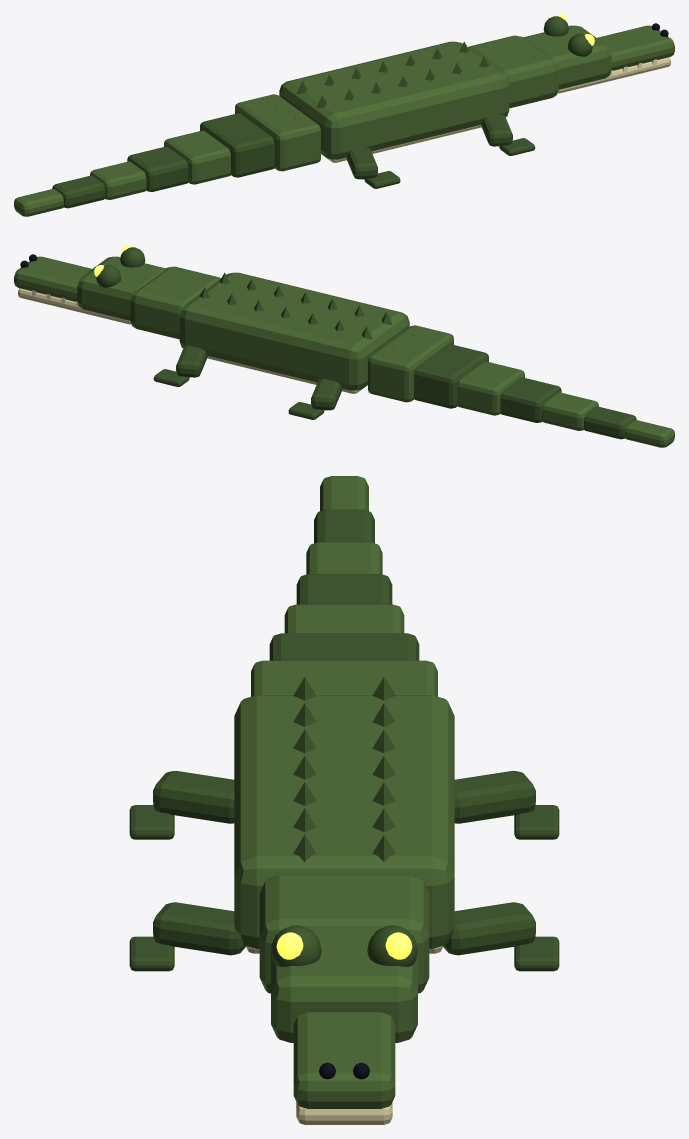
Rendered from alligator.glb.
3 views of the same model, one above another, from view 1: azimuth 30°, elevation 25°; view 2: azimuth 150°, elevation 25°; view 3: azimuth 270°, elevation 25° (orthographic). The views are drawn at different scales.
Visible parts, largest first — view 1: body, tail0, neck, tail1, head, tail2, snout, tail3, tail4, tail5, tail6, jaw (+7 smaller); view 2: body, tail0, neck, tail1, head, tail2, snout, tail3, tail4, tail5, tail6, jaw (+7 smaller); view 3: body, head, neck, snout, tail0, tail1, legf-1, legf1, tail2, legb-1, legb1, tail3 (+10 smaller).
Boxes of the visible parts, bbox=[...] form: body: bbox=[279, 41, 509, 159]; tail0: bbox=[235, 94, 320, 171]; neck: bbox=[468, 35, 558, 108]; tail1: bbox=[200, 113, 274, 177]; head: bbox=[523, 25, 611, 89]; tail2: bbox=[164, 130, 231, 184]; snout: bbox=[597, 25, 674, 70]; tail3: bbox=[127, 146, 188, 191]; tail4: bbox=[90, 161, 146, 199]; tail5: bbox=[52, 175, 104, 208]; tail6: bbox=[14, 189, 63, 216]; jaw: bbox=[557, 57, 670, 93]; body: bbox=[179, 272, 409, 390]; tail0: bbox=[368, 325, 453, 402]; neck: bbox=[130, 266, 220, 339]; tail1: bbox=[414, 344, 488, 408]; head: bbox=[77, 256, 165, 320]; tail2: bbox=[457, 361, 524, 415]; snout: bbox=[14, 256, 91, 301]; tail3: bbox=[500, 377, 561, 422]; tail4: bbox=[542, 392, 598, 430]; tail5: bbox=[584, 406, 636, 439]; tail6: bbox=[625, 420, 674, 447]; jaw: bbox=[18, 288, 131, 324]; body: bbox=[234, 695, 454, 948]; head: bbox=[271, 926, 417, 1042]; neck: bbox=[259, 875, 429, 993]; snout: bbox=[293, 1012, 395, 1108]; tail0: bbox=[251, 660, 437, 696]; tail1: bbox=[269, 633, 419, 660]; legf-1: bbox=[153, 902, 245, 955]; legf1: bbox=[443, 902, 535, 955]; tail2: bbox=[284, 604, 404, 633]; legb-1: bbox=[153, 771, 234, 823]; legb1: bbox=[454, 771, 535, 823]; tail3: bbox=[296, 574, 392, 604].
Bounding box in the file's own units: 5.28 × 0.51 × 1.52.
